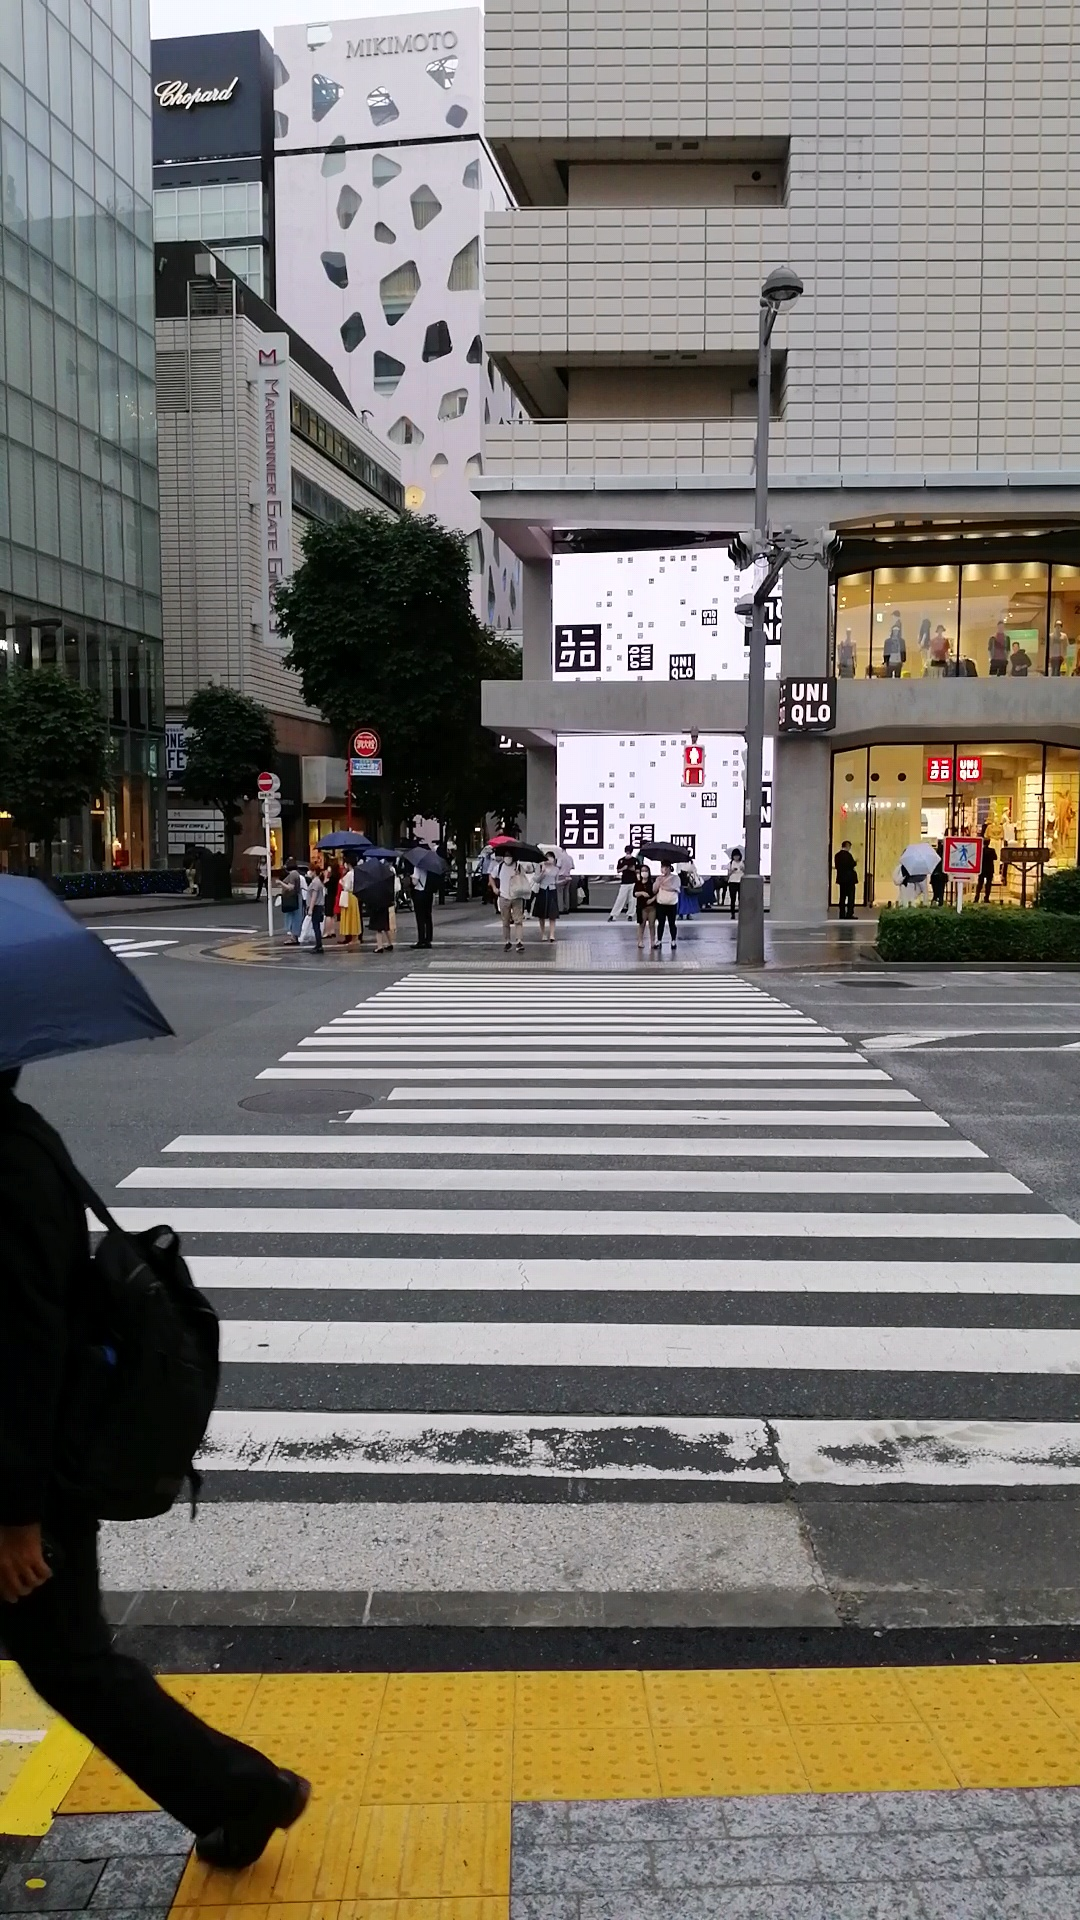red: (683, 742, 705, 789)
